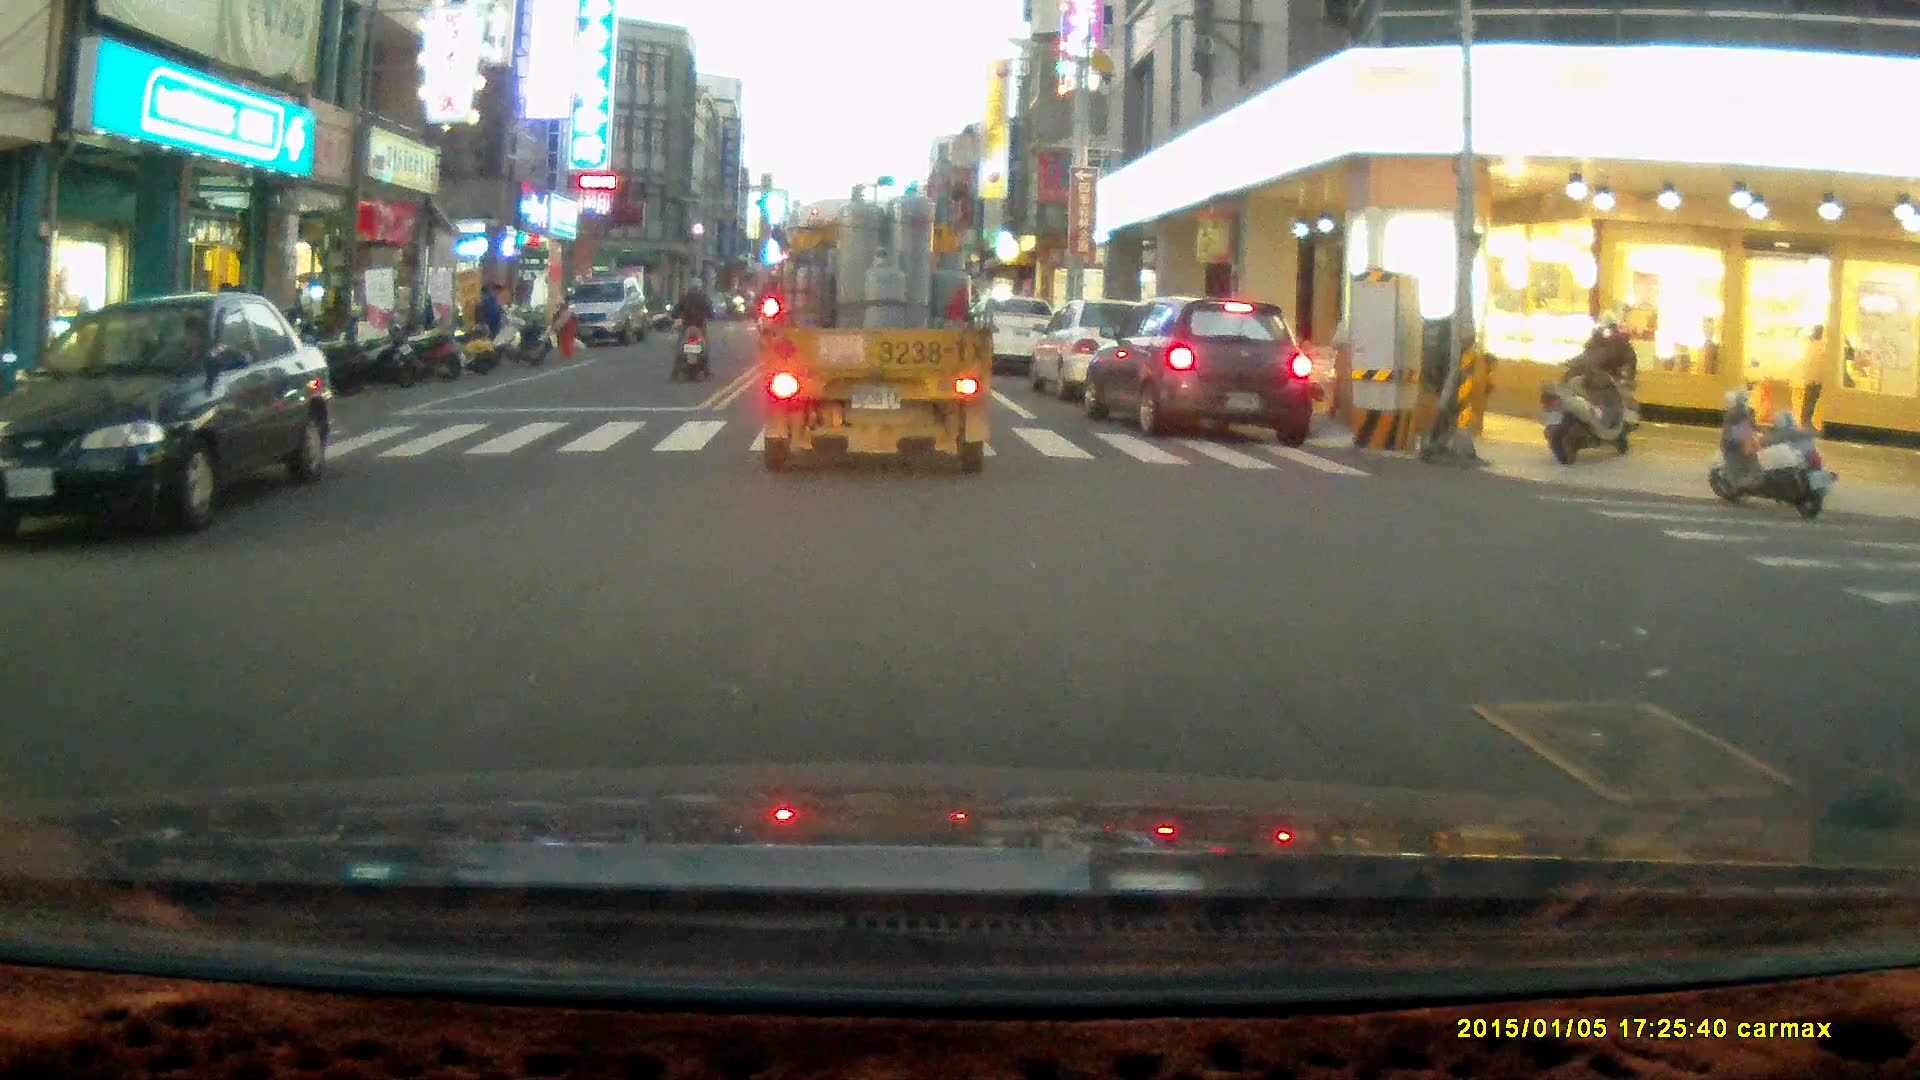pedestrian: (474, 282, 508, 364), (551, 292, 577, 364)
rider: (1543, 310, 1635, 455), (664, 277, 712, 386)
vehicle: (1, 290, 340, 543), (760, 182, 997, 480), (1087, 295, 1317, 444), (1035, 303, 1190, 408), (967, 296, 1063, 376), (566, 282, 657, 352)
